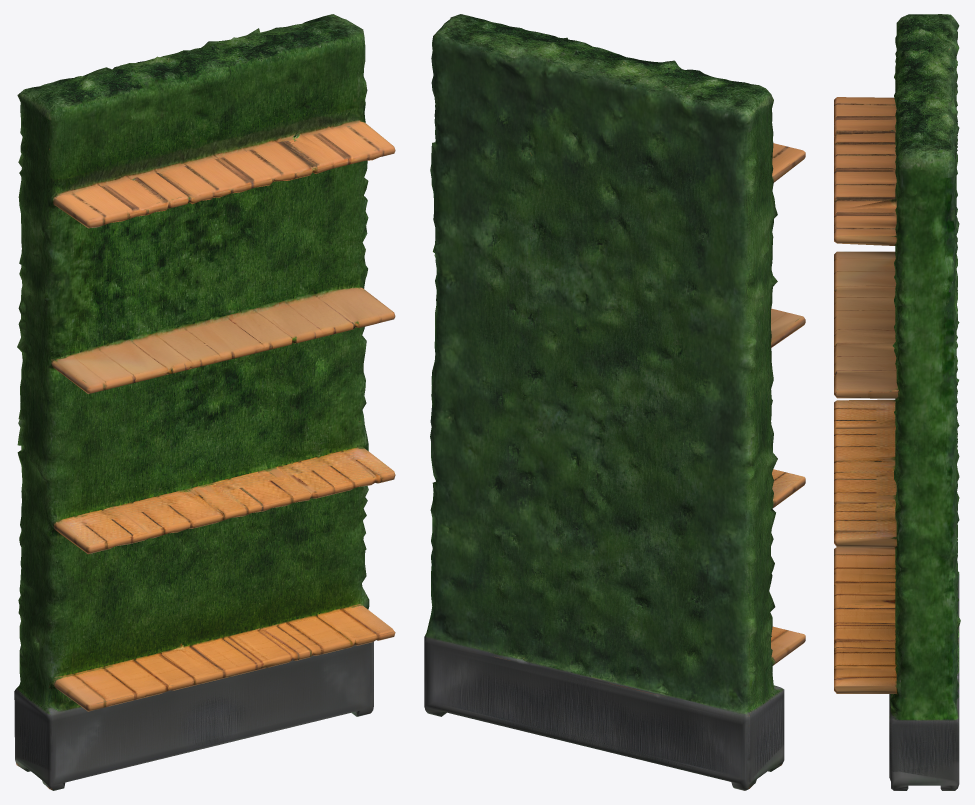
The model's file is Greenery_Champagne_wall_6.5FeetTall_0215214145_texture.glb.
3 views of the same model, side by side, from view 1: azimuth 30°, elevation 25°; view 2: azimuth 150°, elevation 25°; view 3: azimuth 270°, elevation 25° (orthographic). The views are drawn at different scales.
Parts seen in each view (by area): view 1: Mesh_0; view 2: Mesh_0; view 3: Mesh_0.
Boxes of the visible parts, left/top/right/bottom form: Mesh_0: left=14, top=14, right=395, bottom=790; Mesh_0: left=424, top=14, right=805, bottom=790; Mesh_0: left=834, top=14, right=960, bottom=790.
Bounding box in the file's own units: 0.9886 × 1.98 × 0.3554.
1 material, 1 textured.
